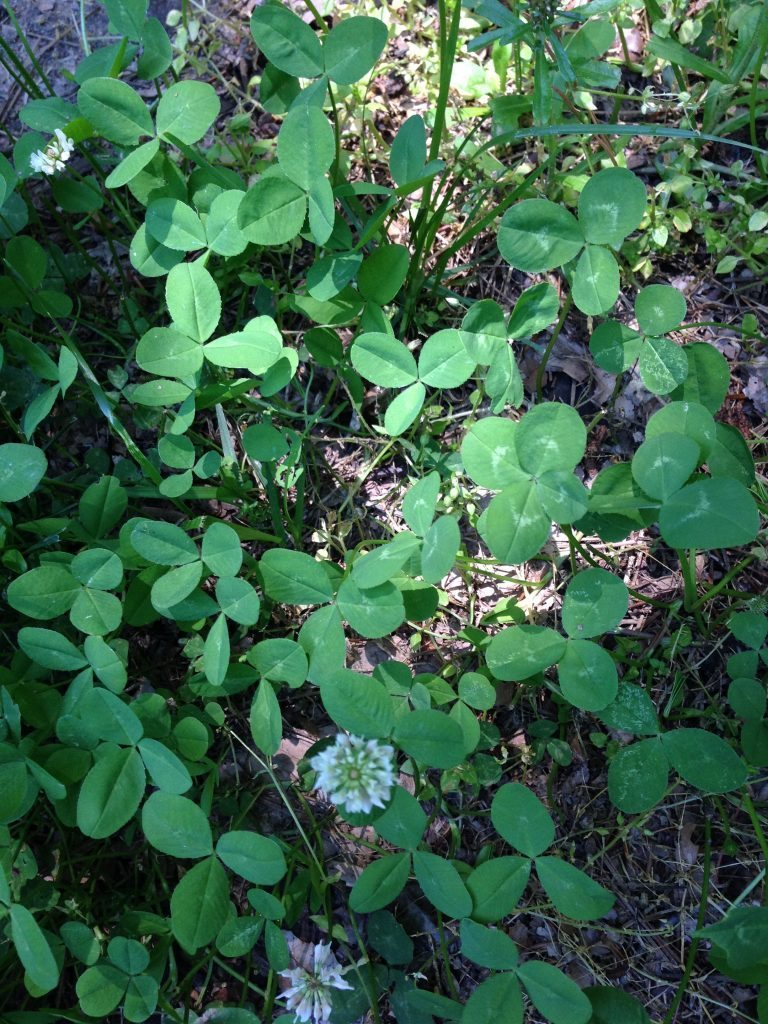4-clover: (465, 399, 591, 567)
